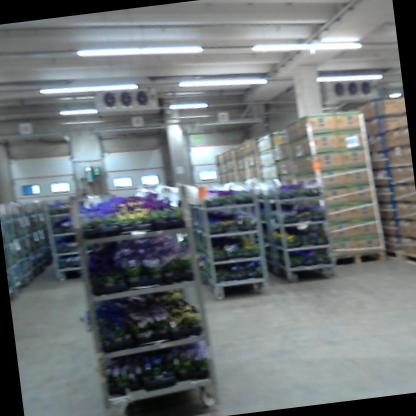pallet: (329, 247, 388, 270), (381, 240, 407, 264), (398, 246, 416, 269)
